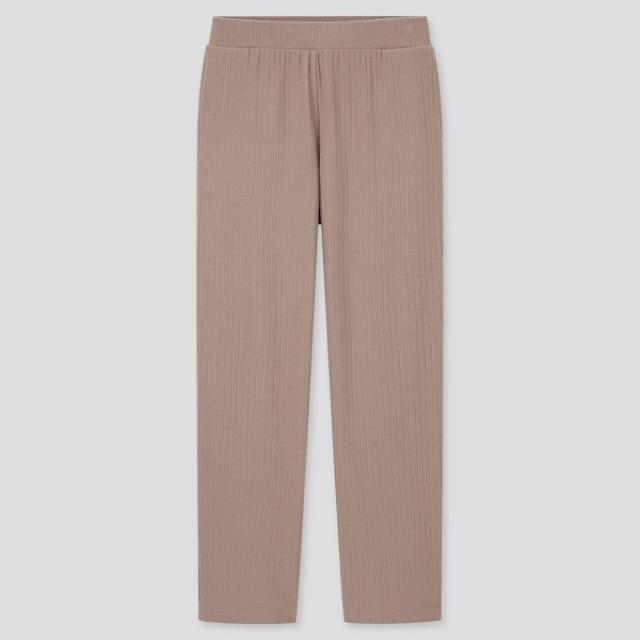long-pants: (196, 16, 445, 625)
